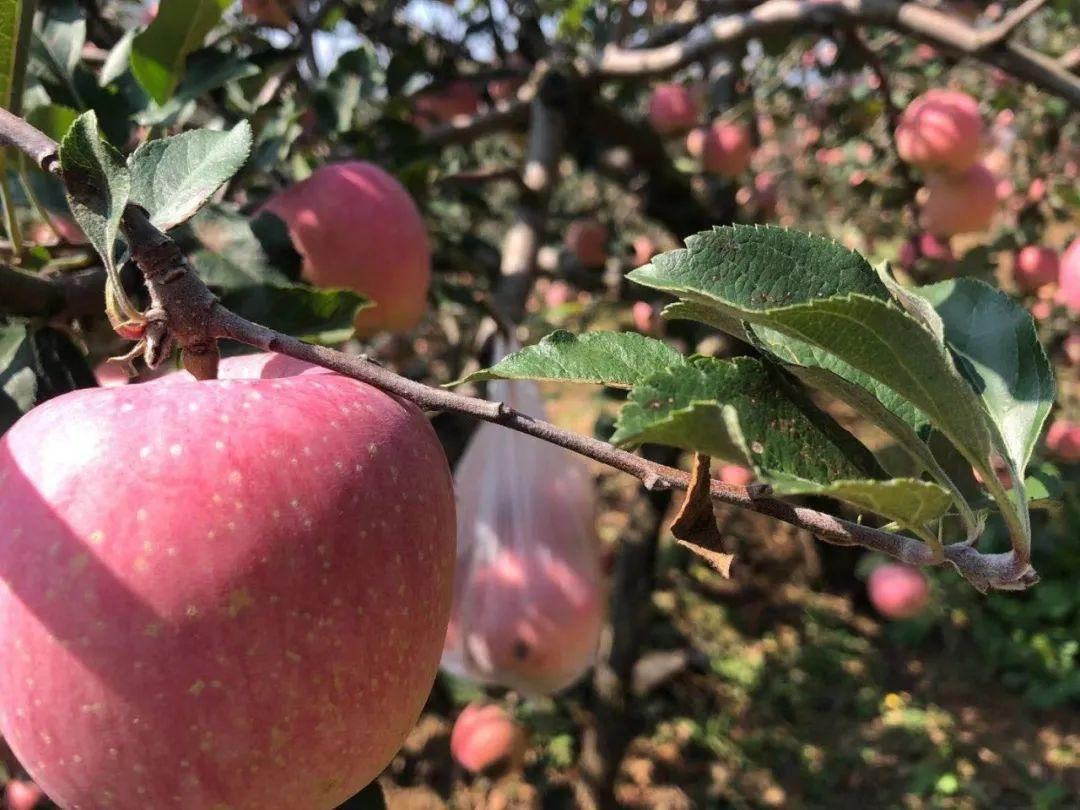apple: (1, 370, 460, 805), (244, 160, 429, 335)
